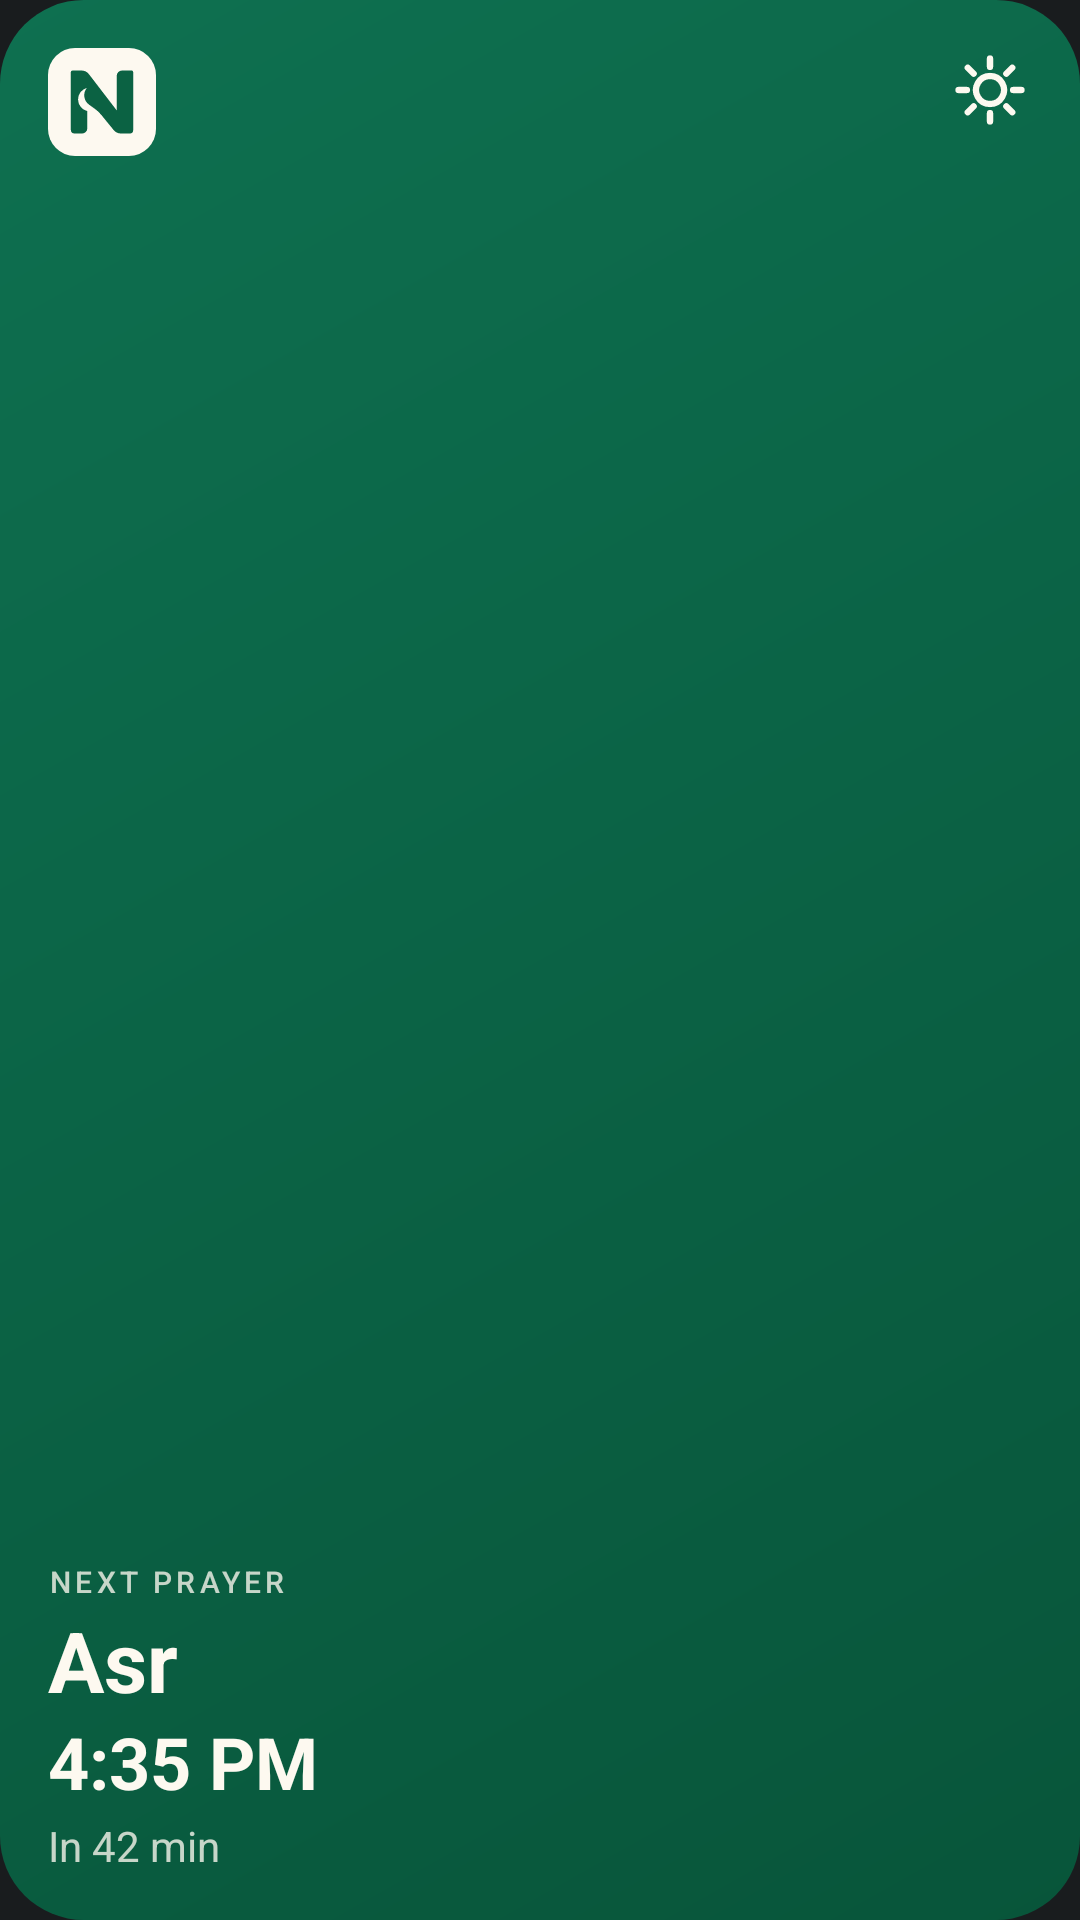

Screen size 1080x1920. Icon name, then its box in pixels as (x1, y1, x2, y2):
widget sun: (955, 55, 1025, 125)
